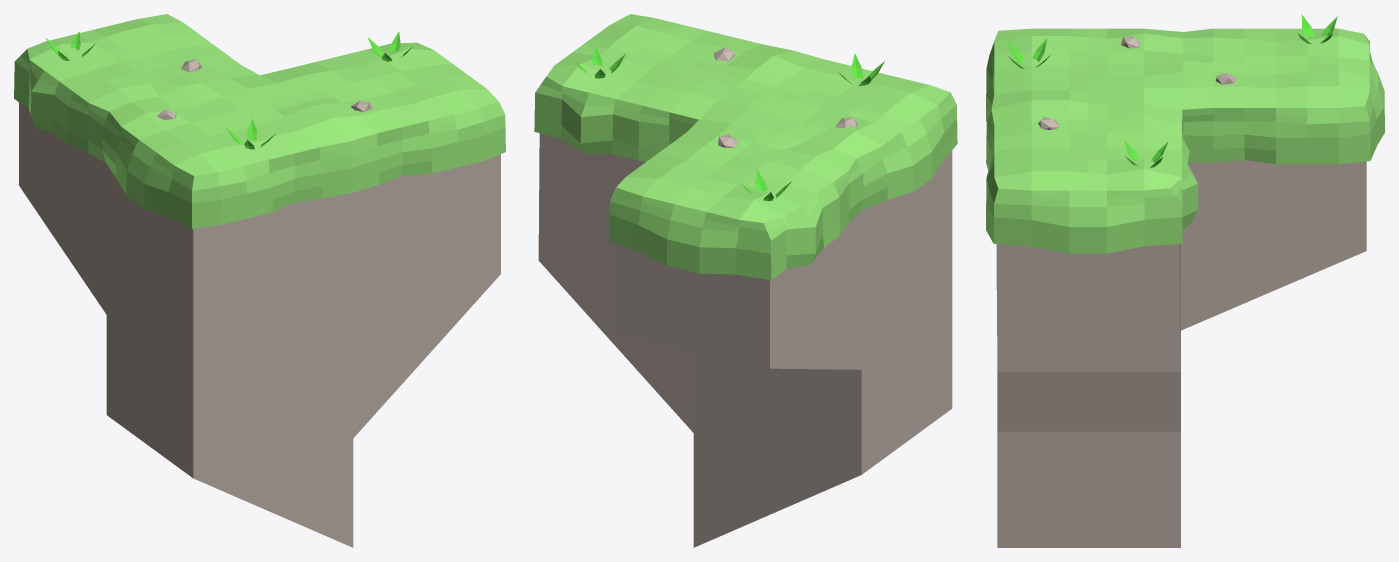
The model's file is islaTriple.fbx.
3 views of the same model, side by side, from view 1: azimuth 30°, elevation 25°; view 2: azimuth 150°, elevation 25°; view 3: azimuth 270°, elevation 25° (orthographic). The views are drawn at different scales.
Parts seen in each view (by area): view 1: Cube.001; view 2: Cube.001; view 3: Cube.001.
Part boxes in pixels (<box>): Cube.001: <box>14,14,505,547</box>; Cube.001: <box>534,14,957,547</box>; Cube.001: <box>986,14,1384,547</box>.
Bounding box in the file's own units: 457 × 554 × 439.
